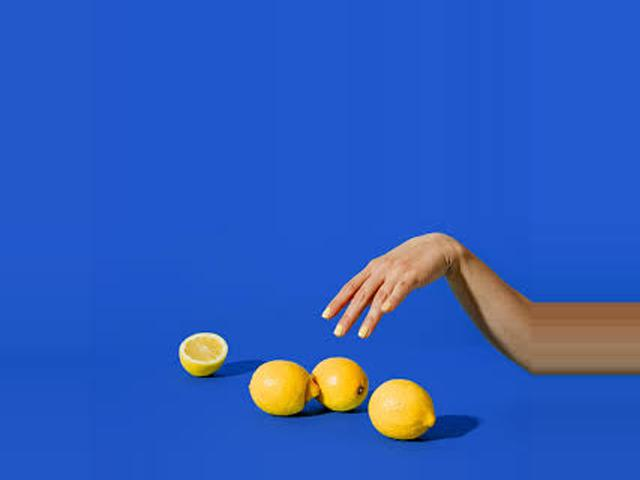lemon: (242, 358, 315, 408)
